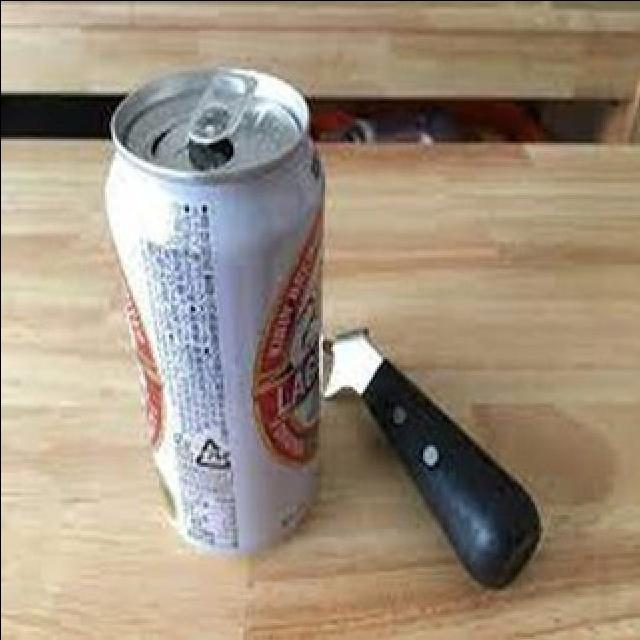can: (103, 63, 326, 557)
